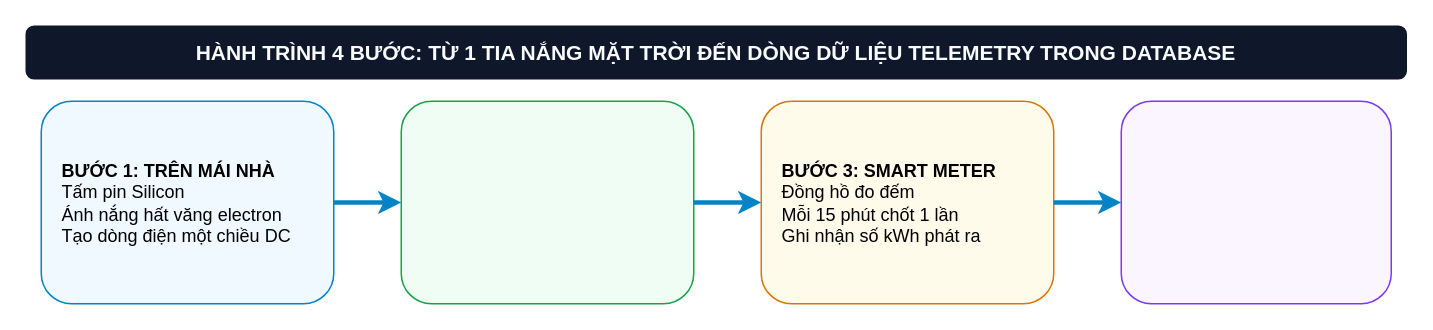
This 1433x330 diagram has some shape labels left out. The shapes that lost their labels are listed below. From the top down, each one's centre as x and y in pixels, then its label:
At point 547,202: "BƯỚC 2: TỦ INVERTER Biến tần chuyển đổi Đổi điện DC sang AC 230V Hiệu suất >98%".
At point 1255,202: "BƯỚC 4: DATABASE Data Lakehouse Lưu 1 dòng bản ghi 2.731.946 dòng dữ liệu".
